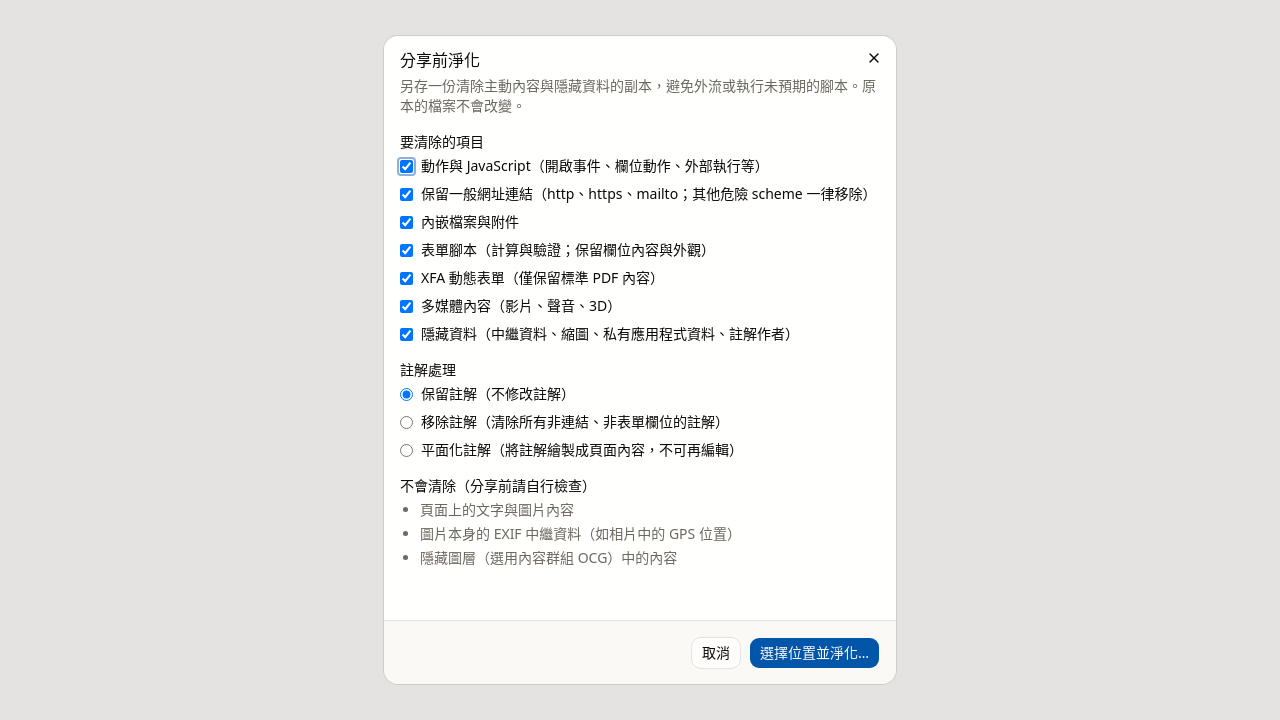
SanitizeDialog (B3-15) › displays no items removed when report counts are zero
Click the button "選擇位置並淨化…": (814, 653) [749,637,880,669]
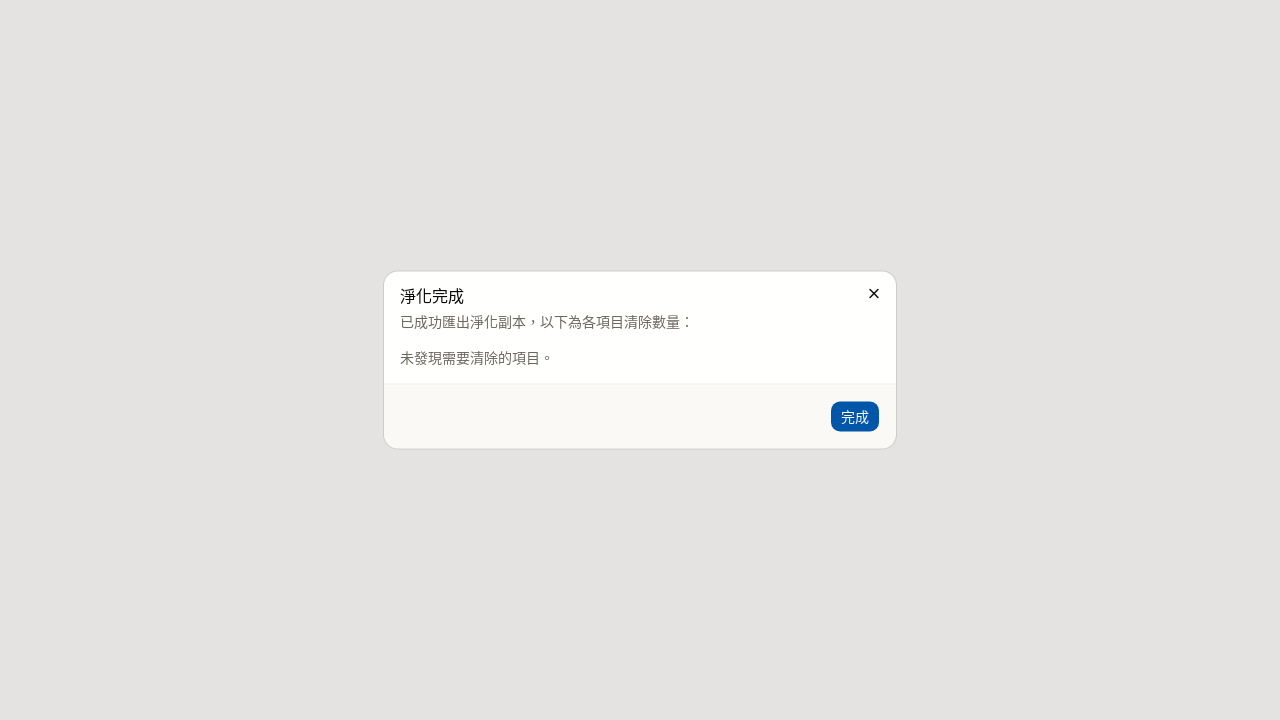
expect the dialog "淨化完成" is shown: met, box [384,272,896,448]
expect the text "未發現需要清除的項目。" is shown: met, box [400,348,554,366]
